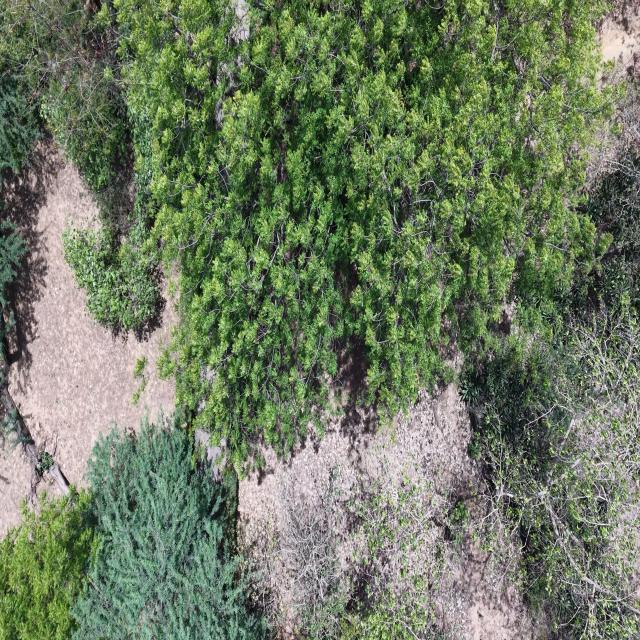DRY_AREA: (7, 142, 174, 485), (8, 143, 175, 484), (8, 143, 174, 484), (239, 384, 478, 602), (240, 418, 398, 543), (587, 0, 639, 189), (601, 0, 639, 69)
VEGETATION_TREE: (0, 0, 639, 639), (4, 0, 612, 462), (118, 0, 610, 461), (461, 83, 639, 638), (0, 417, 264, 639), (239, 395, 470, 639), (0, 429, 260, 639), (478, 307, 639, 638), (0, 0, 159, 329), (73, 420, 262, 639), (0, 59, 68, 500), (0, 0, 127, 189), (63, 108, 159, 331), (340, 474, 459, 639), (0, 218, 68, 501), (265, 476, 352, 639), (0, 490, 94, 639), (0, 219, 40, 488), (0, 54, 41, 308), (63, 228, 158, 330), (587, 155, 639, 310), (0, 63, 40, 180), (0, 220, 26, 310), (132, 357, 148, 405)
